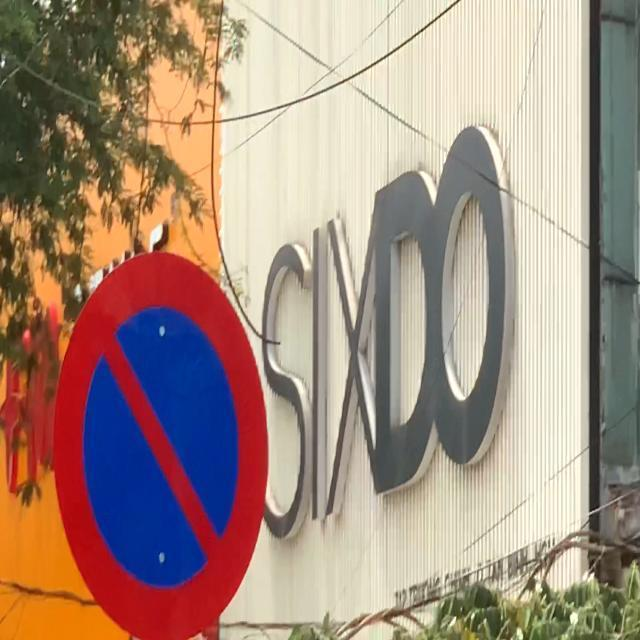131a-cam-do-xe: (48, 251, 271, 640)
